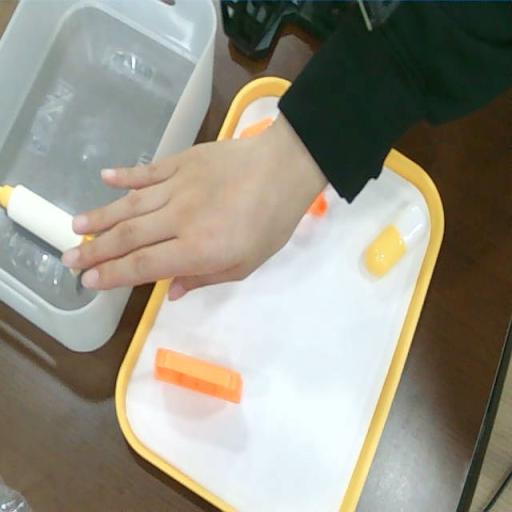hospital: (55, 140, 296, 304)
